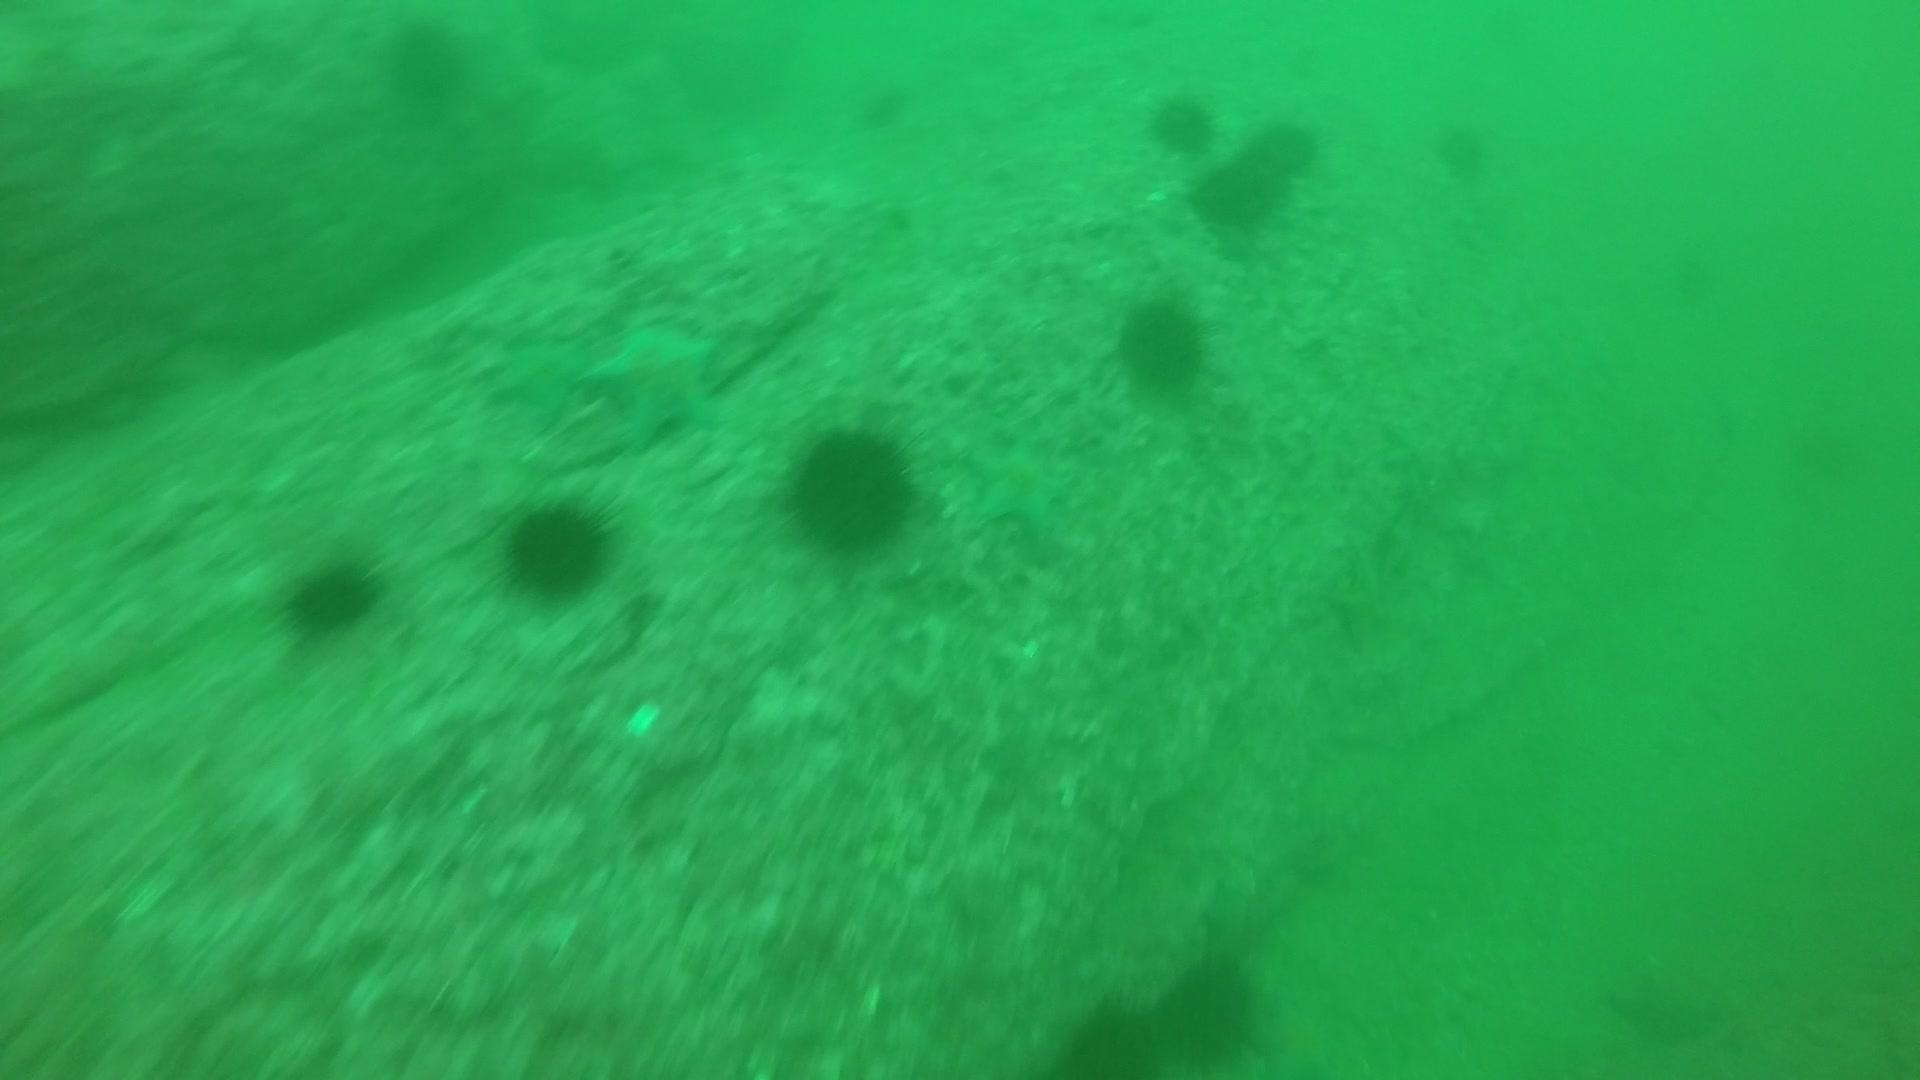echinus: (777, 418, 924, 560), (1146, 947, 1269, 1069), (495, 491, 621, 605), (1109, 287, 1216, 401), (1188, 136, 1298, 233), (277, 550, 386, 641), (375, 15, 477, 109), (1054, 996, 1168, 1077), (1241, 112, 1325, 185), (1145, 86, 1221, 157), (1429, 113, 1497, 181), (853, 75, 914, 132)
starfish: (580, 311, 731, 447), (957, 429, 1076, 537), (480, 328, 597, 421)
